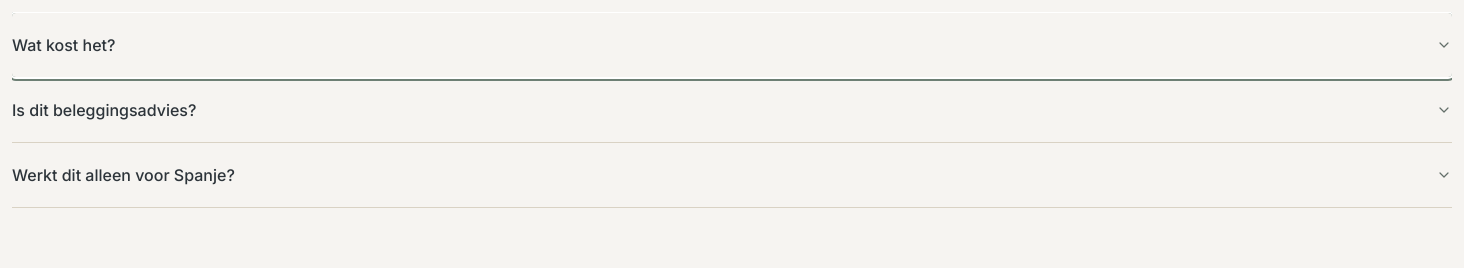
Test: keyboard operation - §5's Enter/Space requirement › is reachable by keyboard and toggles on Enter
Press Enter in the button "Wat kost het?", box x1=12 y1=13 x2=1452 y2=77
Click the button "Wat kost het?" at (64, 45), box x1=12 y1=13 x2=1452 y2=77
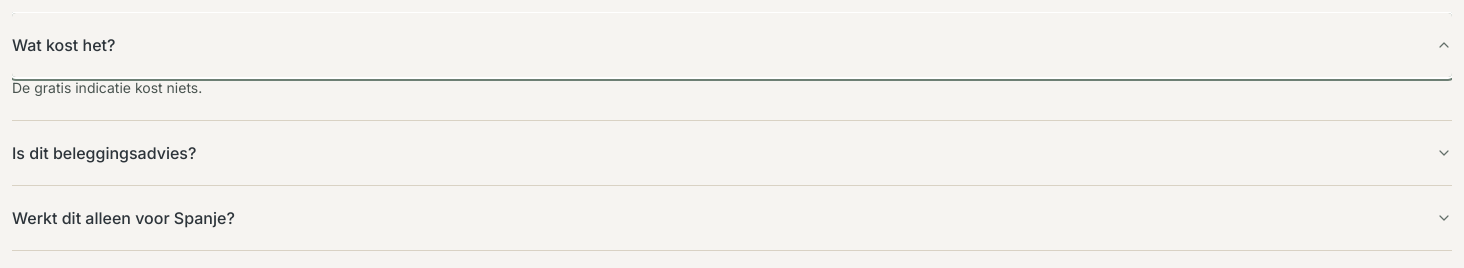
Check: the button "Wat kost het?" is expanded, box x1=12 y1=13 x2=1452 y2=77
